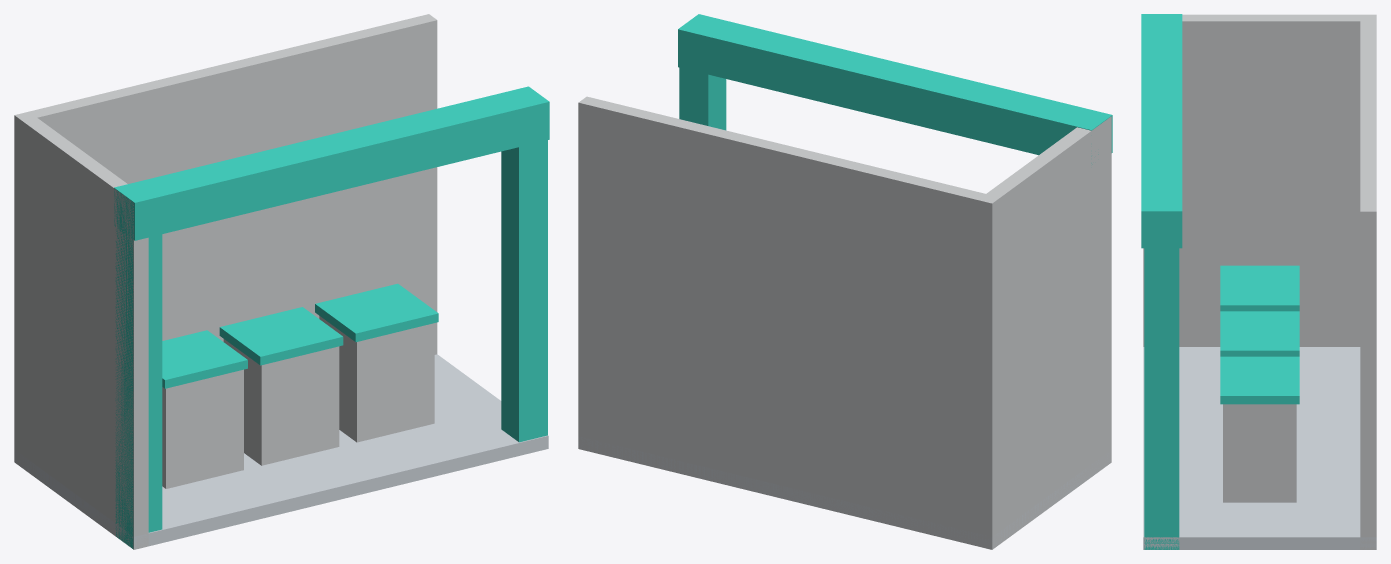
3 views of the same model, side by side, from view 1: azimuth 30°, elevation 25°; view 2: azimuth 150°, elevation 25°; view 3: azimuth 270°, elevation 25° (orthographic). The views are drawn at different scales.
Visible parts, largest first — view 1: Exhibition Booth Concept; view 2: Exhibition Booth Concept; view 3: Exhibition Booth Concept.
Part boxes in pixels (x1,y1,x2,y2): Exhibition Booth Concept: [14, 14, 549, 549]; Exhibition Booth Concept: [578, 14, 1112, 549]; Exhibition Booth Concept: [1141, 14, 1376, 549].
Size of the model in its own units: 4 by 3.2 by 2.01.
